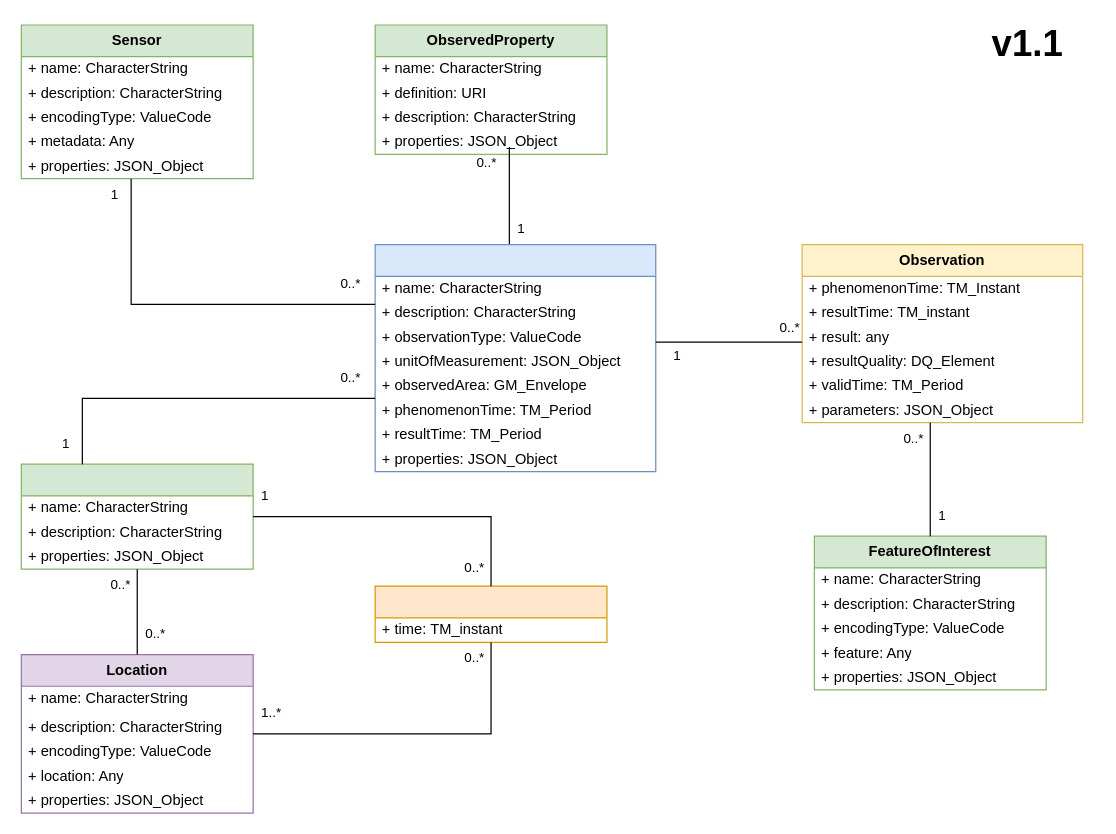
Image size: 1116x834. Some labels were removed from this diagram. The box of each missing label's shape, as (x1, y1, x2, y2) in pixels:
Datastream: (374, 243, 656, 472)
HistoricalLocation: (374, 585, 607, 642)
Thing: (20, 463, 253, 569)
